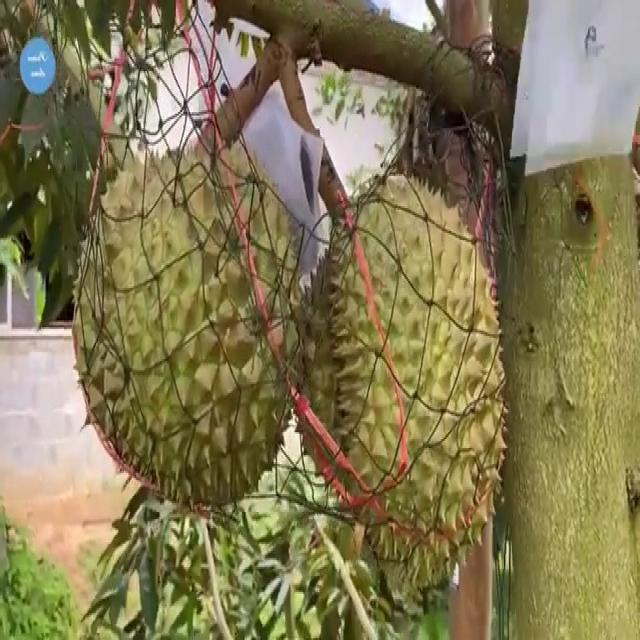durian: (293, 162, 509, 604), (70, 140, 310, 519)
